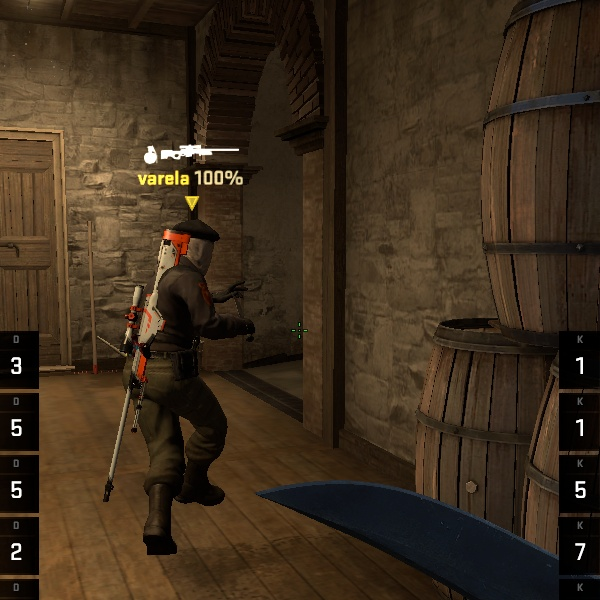t_body: (93, 211, 285, 532)
t_head: (156, 214, 228, 282)
